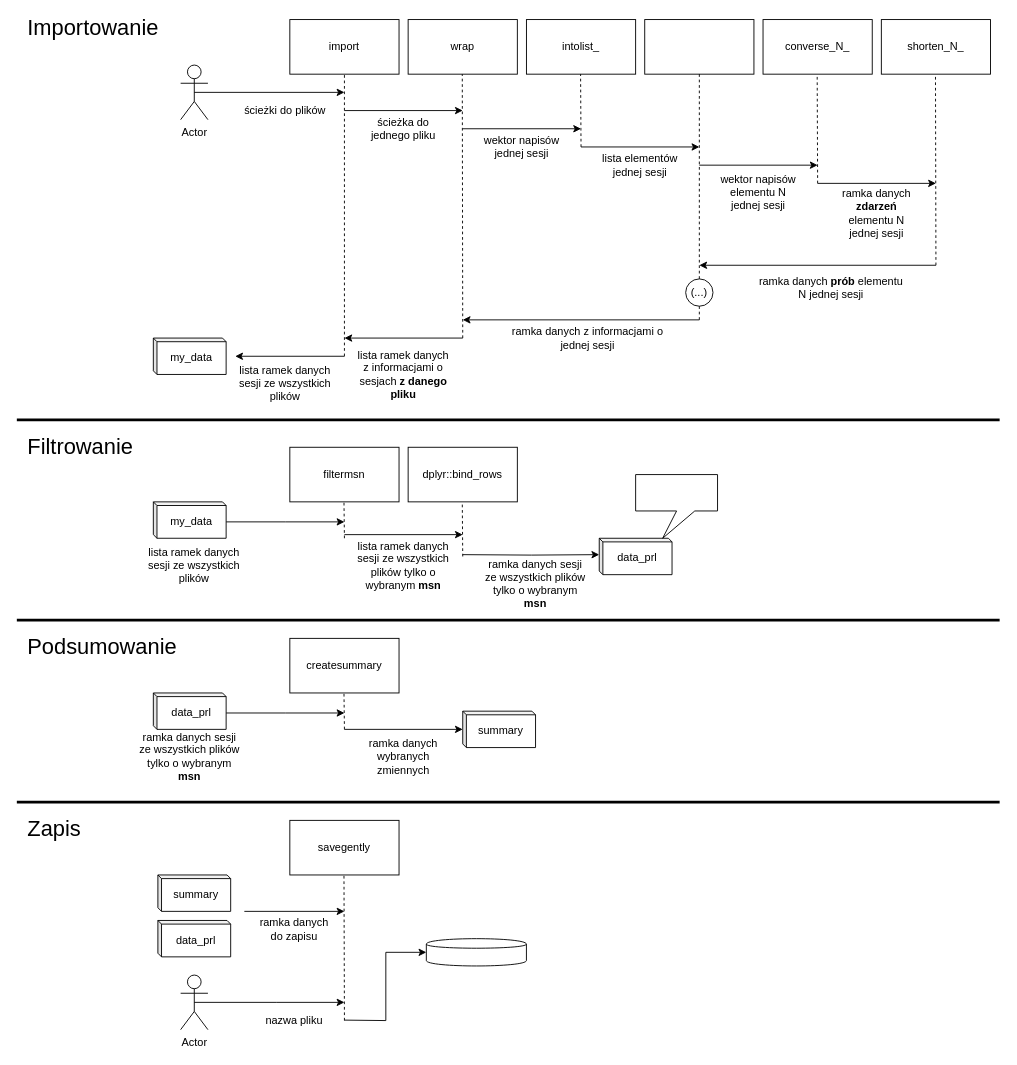
Some shapes in this 1017 by 1065 pixel diagram are drawn without their labels. The shapes that lost their labels are listed below. From the top down, each one's centre as x and y in pixels, then its label:
the point at 699,46: rewrite_
the point at 676,506: "moje dane ukochane"
the point at 475,952: plik na dysku
